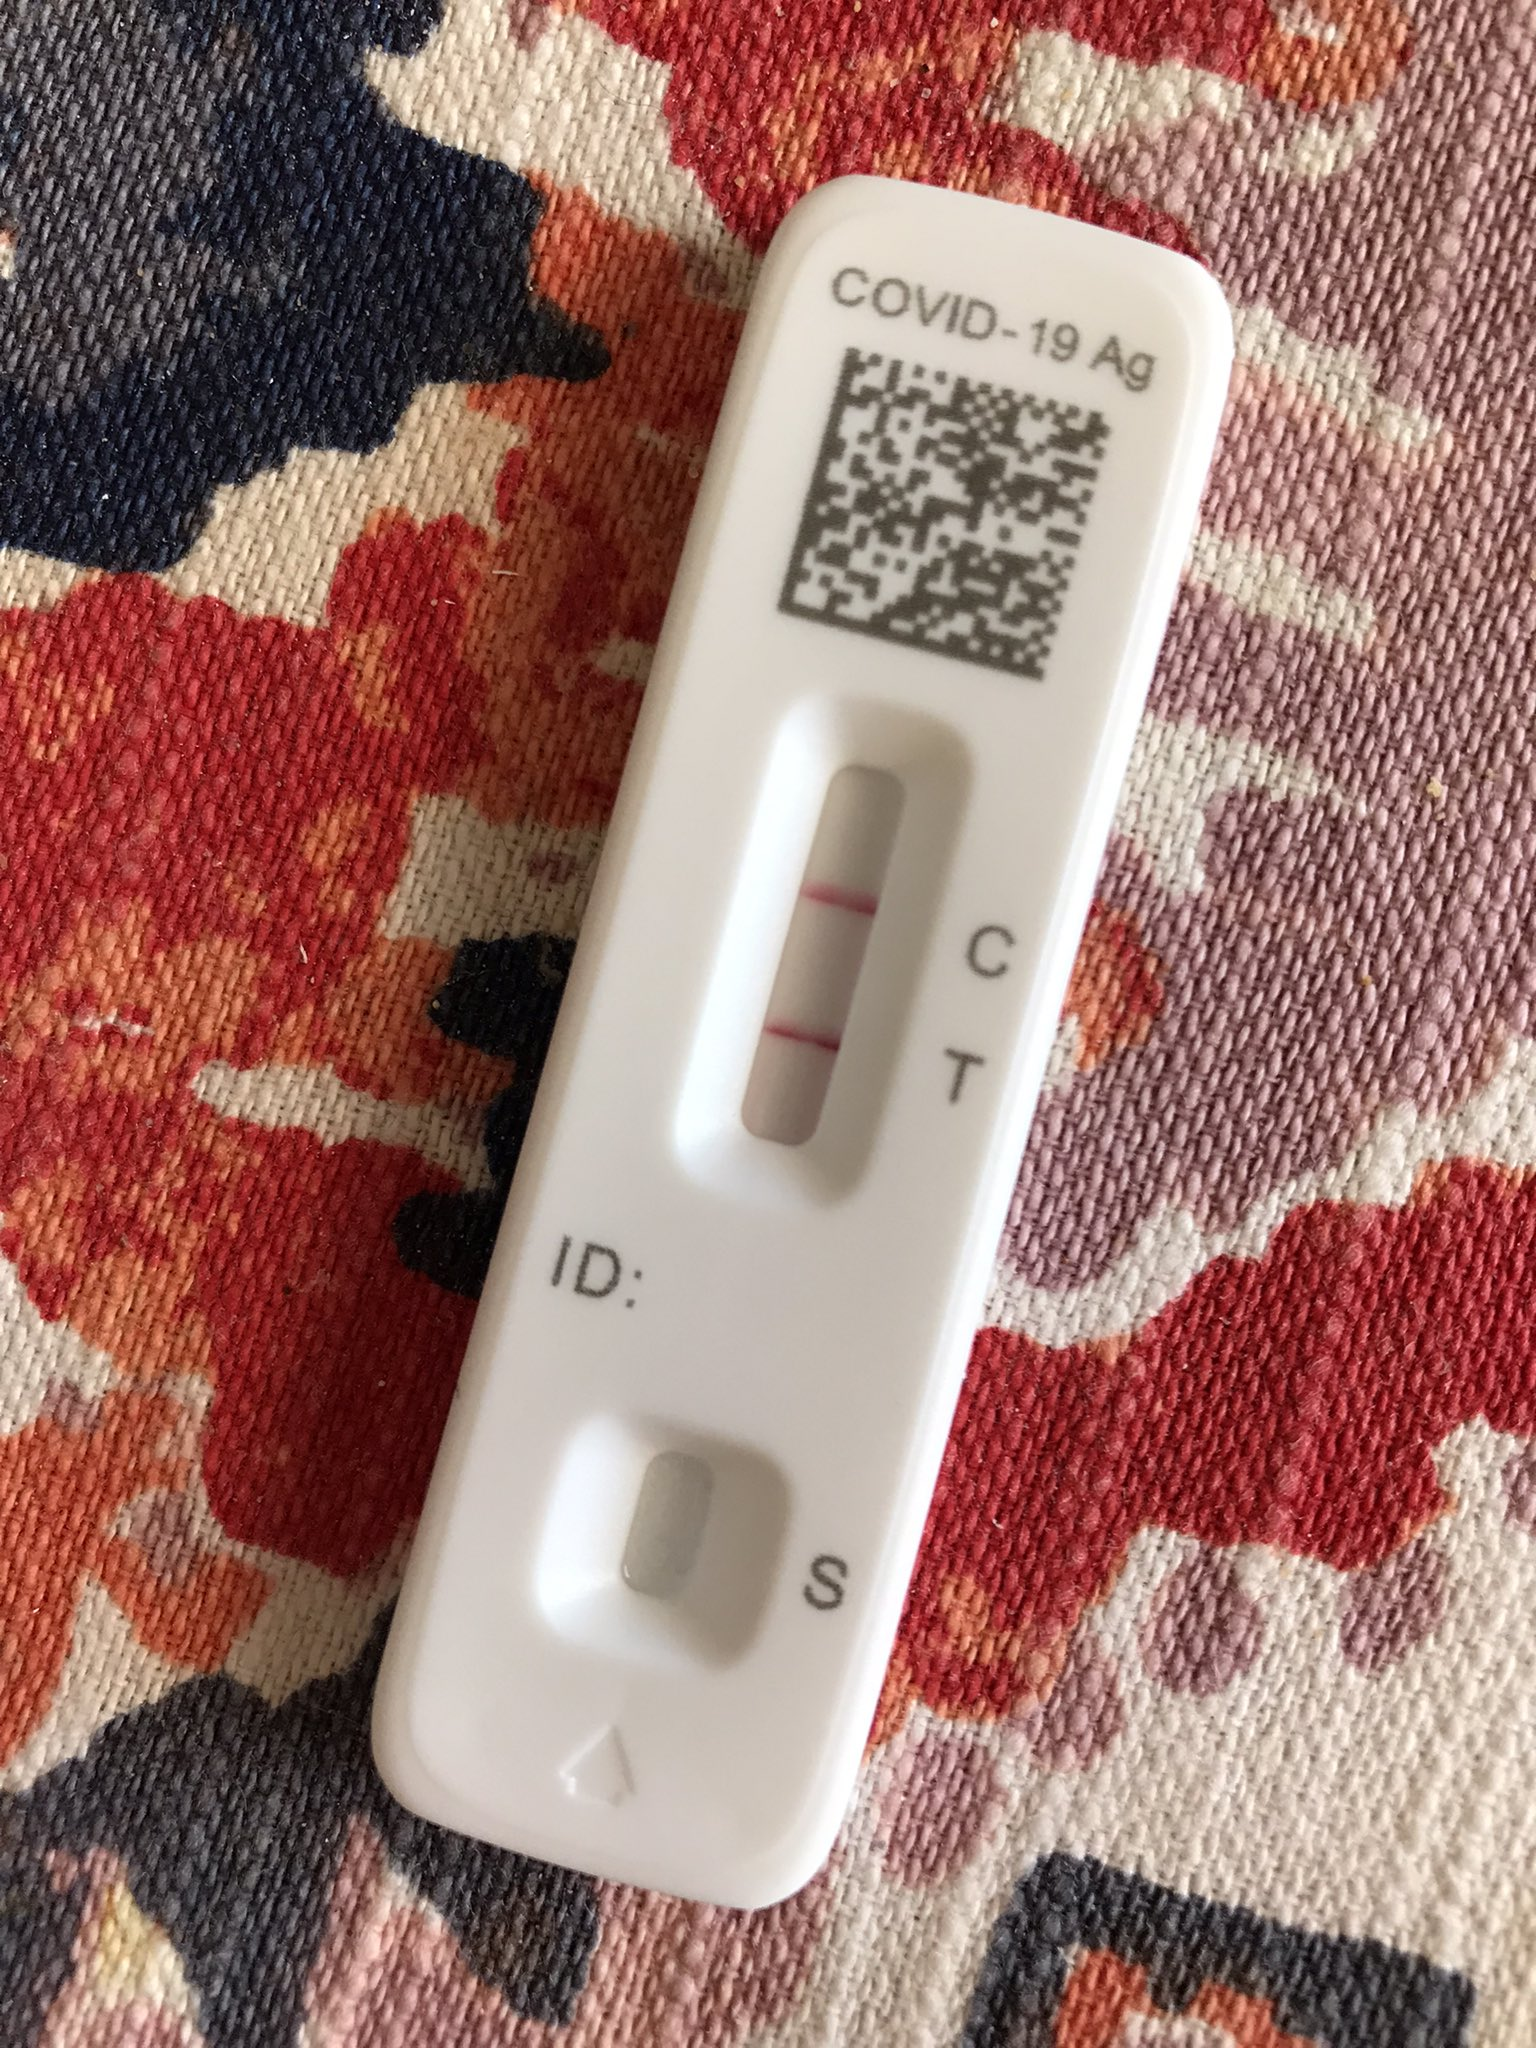positive: (766, 710, 886, 1201)
